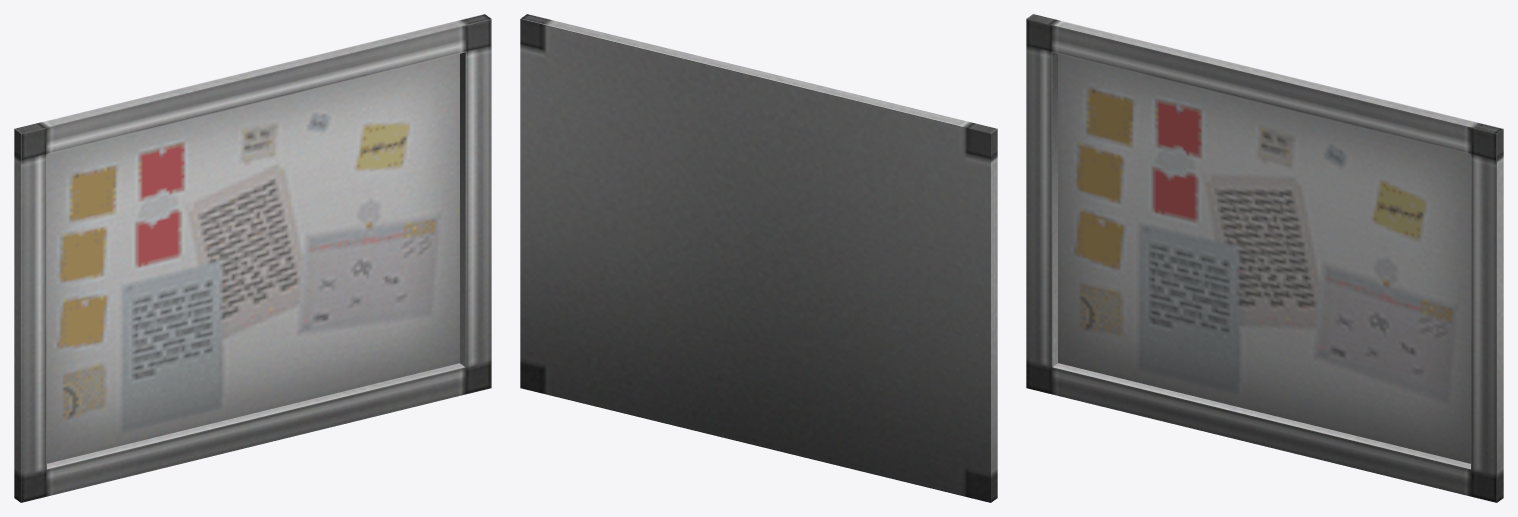
The model's file is notice-board.obj.
3 views of the same model, side by side, from view 1: azimuth 30°, elevation 25°; view 2: azimuth 150°, elevation 25°; view 3: azimuth 330°, elevation 25° (orthographic).
Visible parts, largest first — view 1: notice-board-col; view 2: notice-board-col; view 3: notice-board-col.
Boxes of the visible parts, <box> form: notice-board-col: <box>14,14,491,502</box>; notice-board-col: <box>520,14,997,502</box>; notice-board-col: <box>1026,14,1503,502</box>.
Bounding box in the file's own units: 1.2 × 0.9 × 0.0295.
